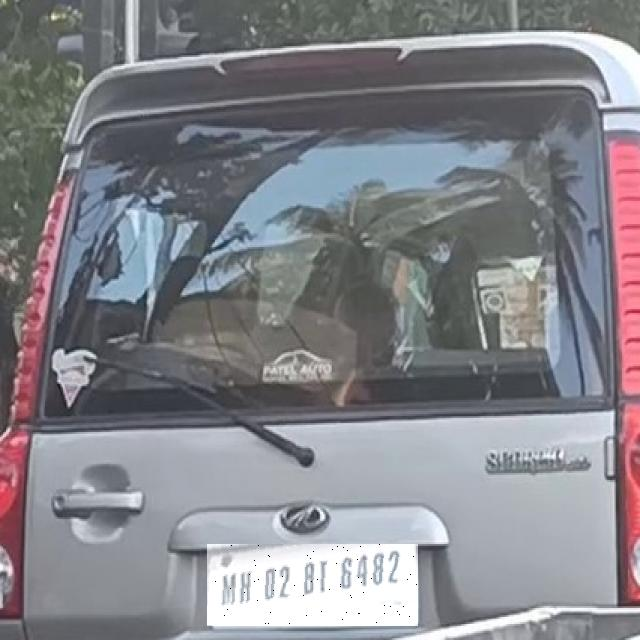Plate: (208, 545, 419, 627)
